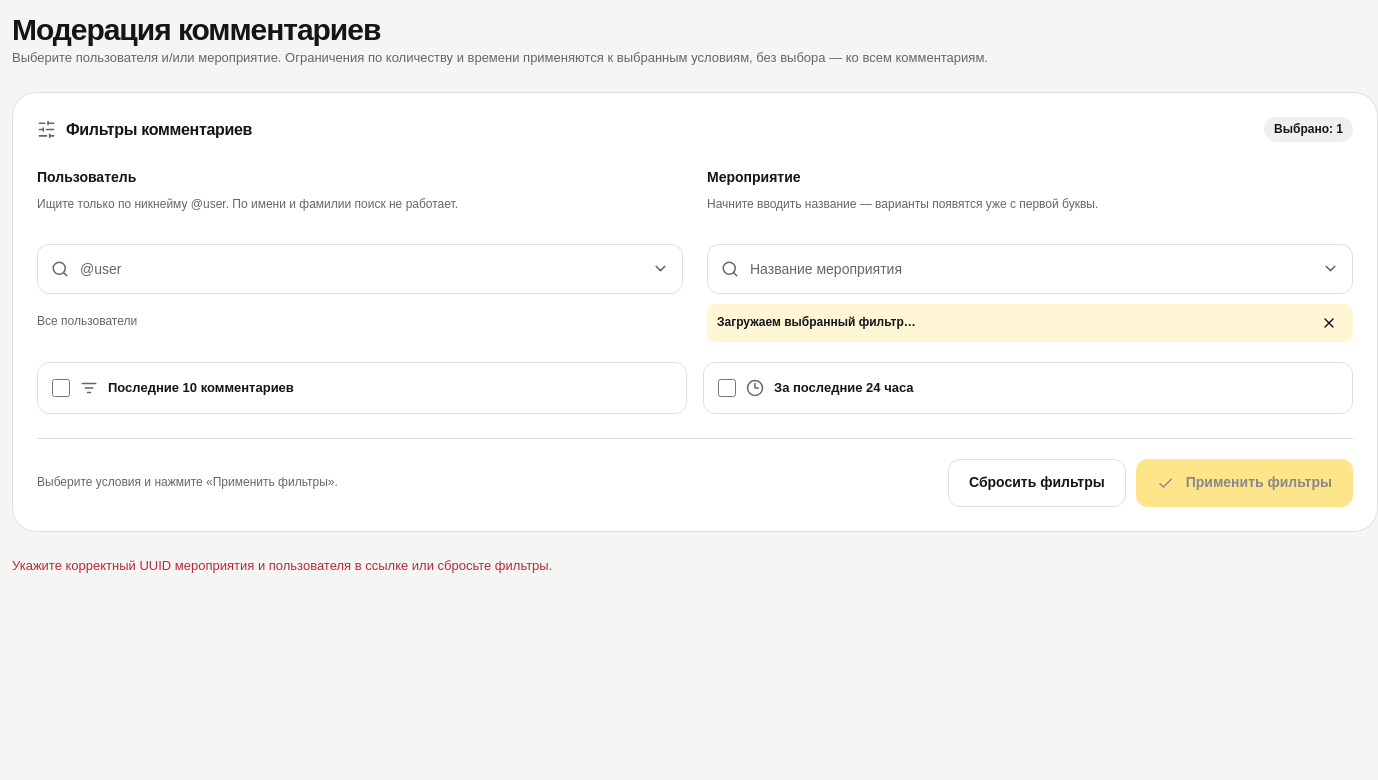
Test: moderation UI › validates IDs in filter links and recovers by clearing filters
Check: the message shows "корректный UUID", box [12,558,552,573]
Click the button "Сбросить фильтры" at (1037, 483), box [948,459,1126,507]
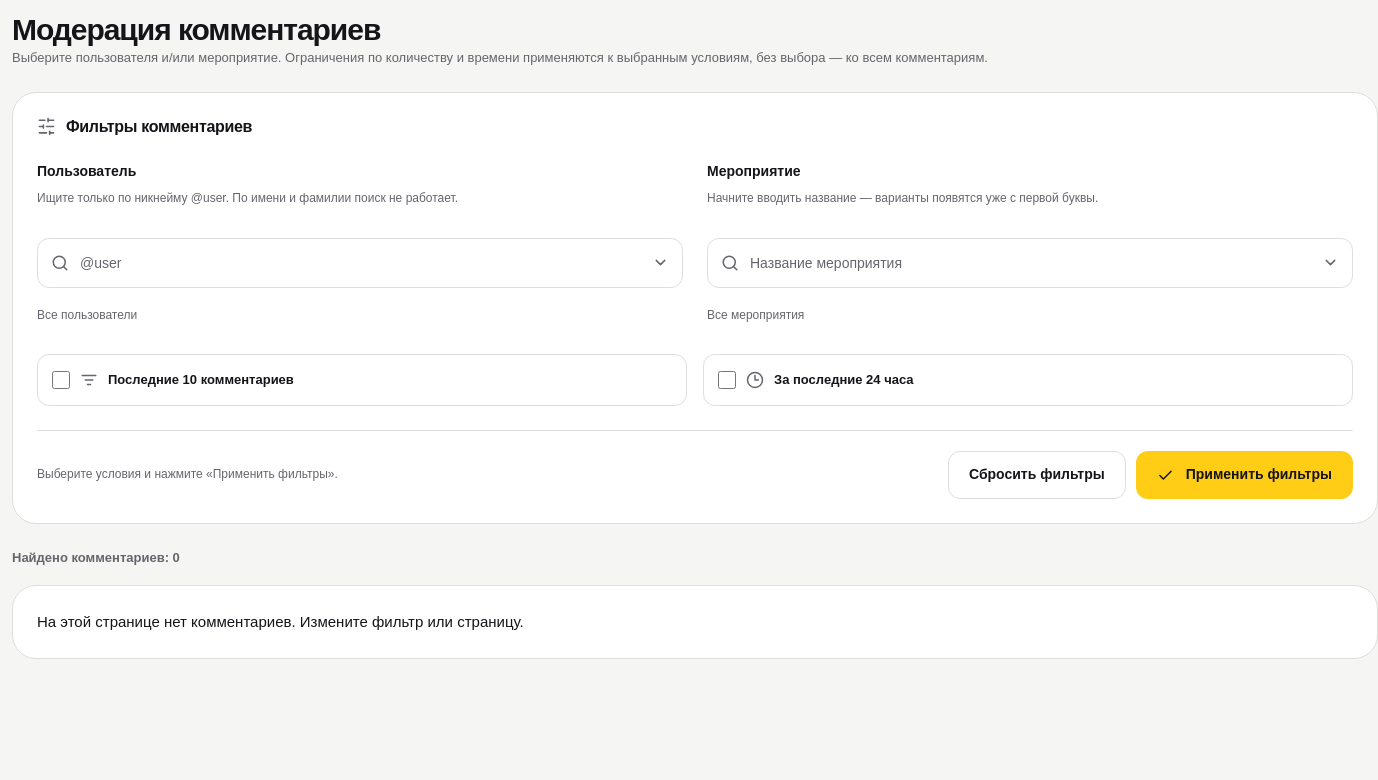
Check: the text "Найдено комментариев: 0" is shown, box [12,550,180,565]
